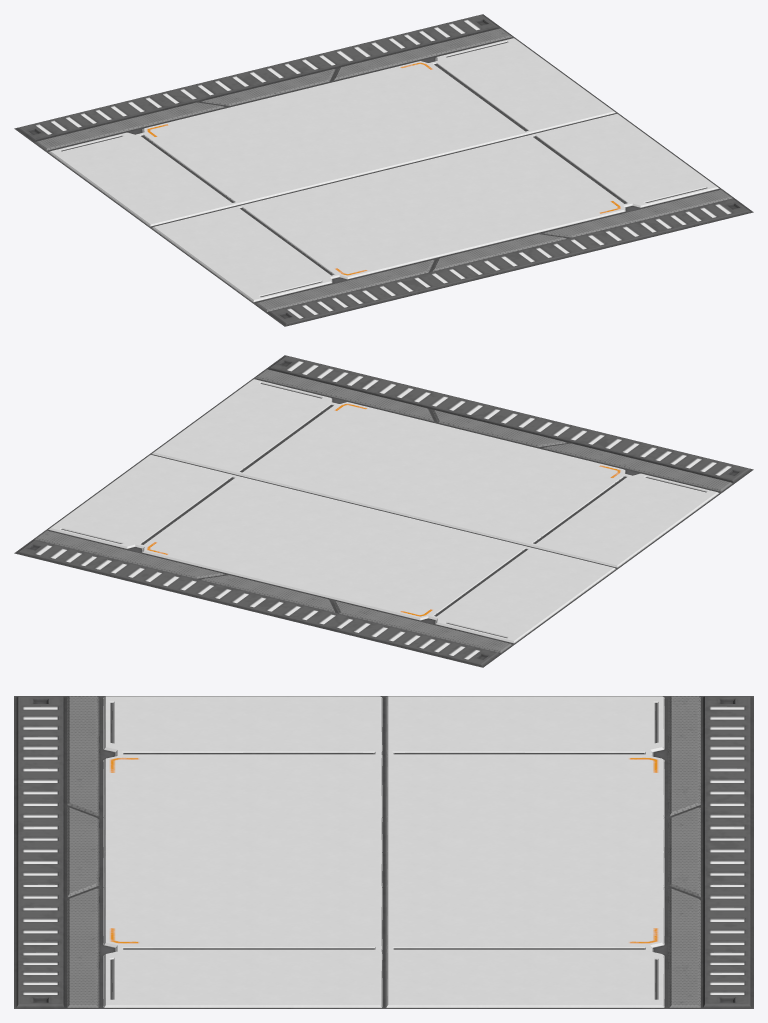
File: SM_MFloor02-350x350-1.FBX
3 renders of one model, top to bottom at view 1: azimuth 30°, elevation 25°; view 2: azimuth 150°, elevation 25°; view 3: azimuth 270°, elevation 25°, orthographic. The views are drawn at different scales.
Parts seen in each view (by area): view 1: SM_MFloor02-350x350-1; view 2: SM_MFloor02-350x350-1; view 3: SM_MFloor02-350x350-1.
Part boxes in pixels (<box>): SM_MFloor02-350x350-1: <box>14,14,753,326</box>; SM_MFloor02-350x350-1: <box>14,355,753,667</box>; SM_MFloor02-350x350-1: <box>14,696,753,1008</box>.
Size of what is drawn, in the model's own units: 350 by 350 by 1.
